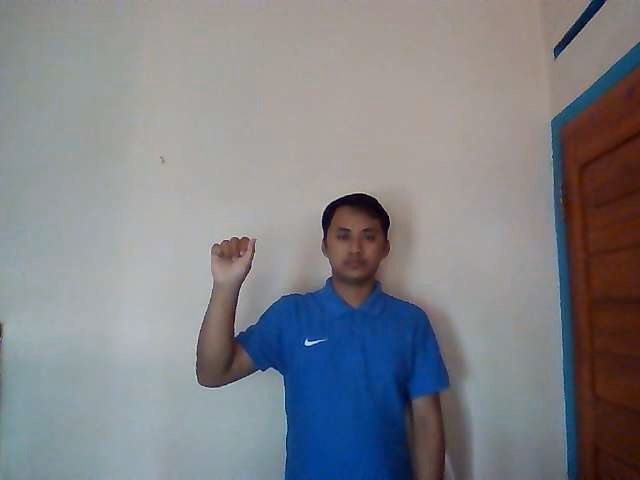A: (209, 236, 257, 287)
